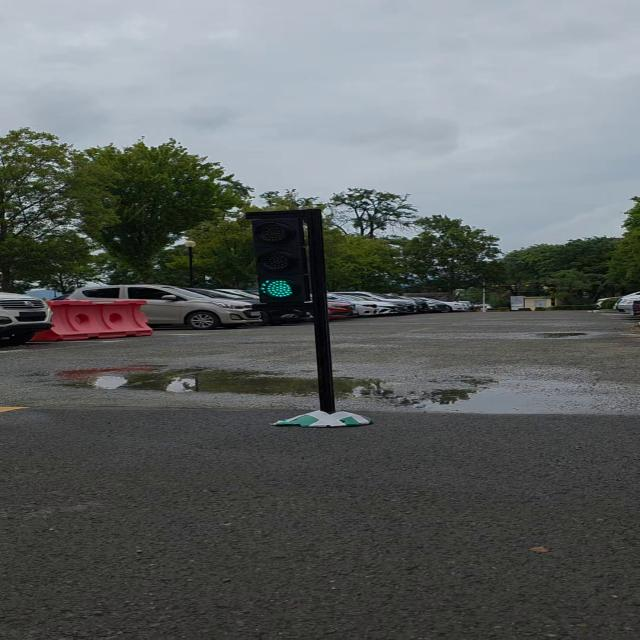green: (249, 213, 320, 314)
